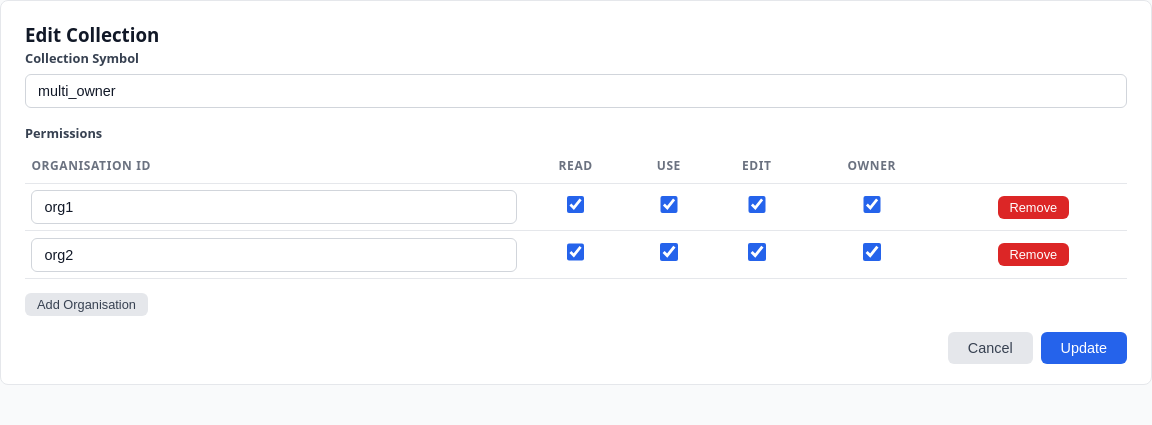
CollectionForm › shows validation error when multiple organisations have owner rights
What coordinates should you click on to do the following:
click the button "Update"
I would click on:
 (1084, 348)
Its box is left=1041, top=332, right=1127, bottom=364.
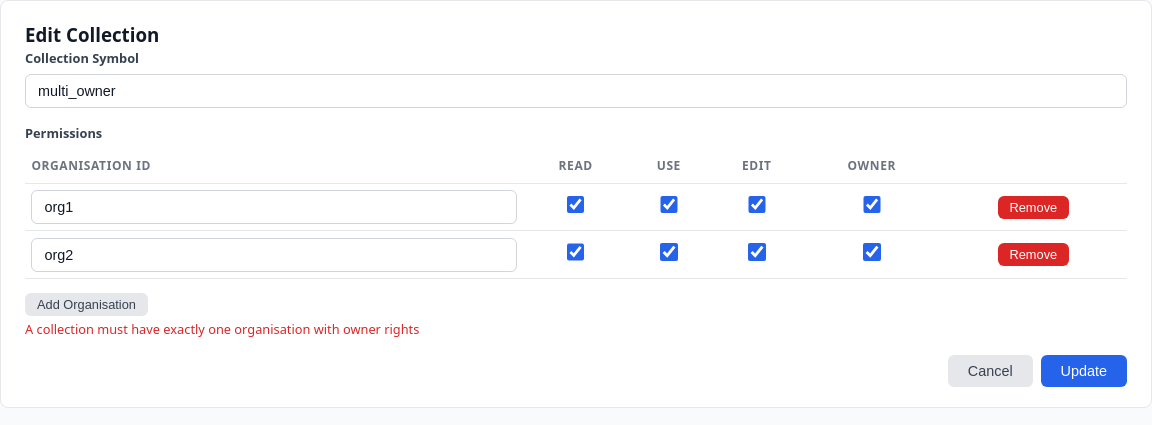
expect the text "A collection must have exactly one organisation with owner rights" is shown: met, box left=25, top=320, right=419, bottom=338
